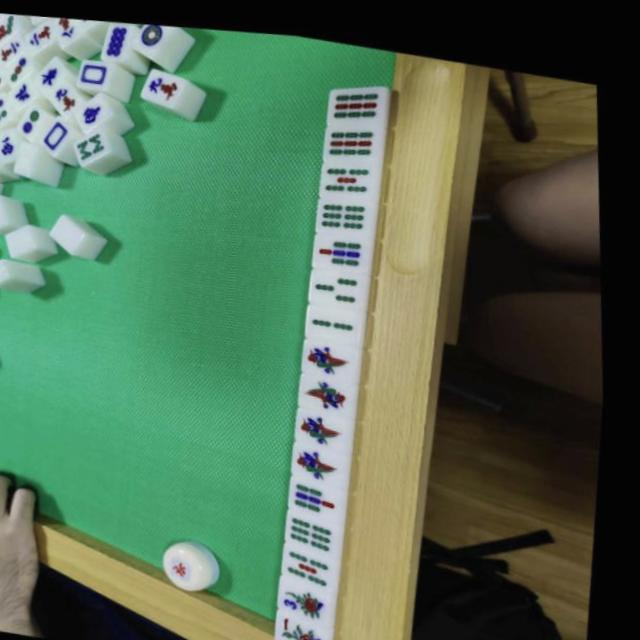bf3: (284, 575, 336, 613)
bs1: (279, 606, 338, 640)
sb1: (300, 401, 364, 444), (304, 366, 365, 408), (297, 437, 359, 478), (308, 331, 369, 372)
sb2: (310, 294, 374, 339)
sb3: (316, 259, 378, 303)
sb5: (326, 148, 389, 195), (289, 539, 345, 580)
sb6: (321, 185, 384, 229), (291, 503, 351, 546)
sb7: (319, 223, 378, 266), (295, 472, 354, 512)
sb9: (329, 110, 393, 157), (332, 72, 392, 119)
